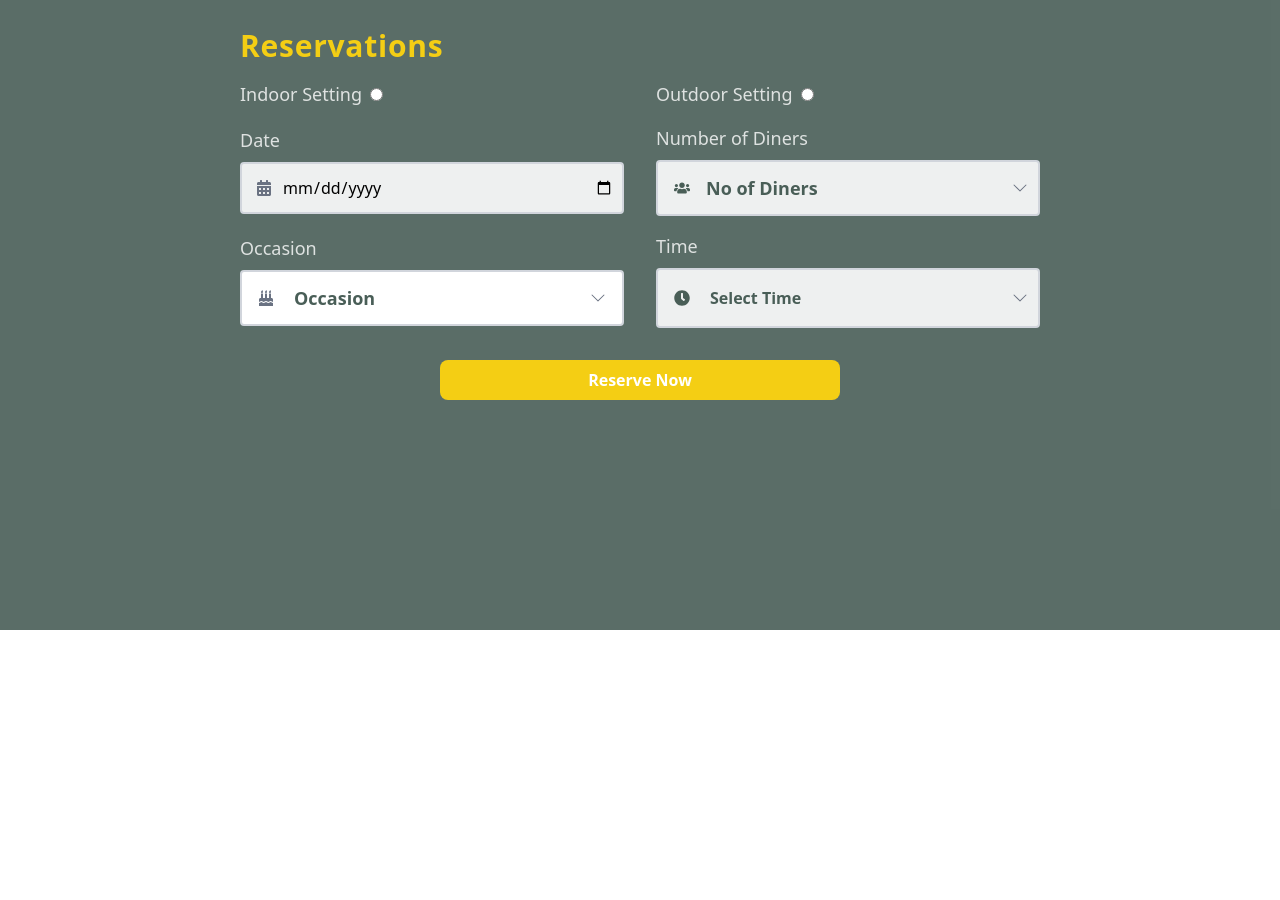
Test: BookingForm › shows validation errors on empty submit
Click the button "Reserve Now": (640, 380) [440, 360, 840, 400]
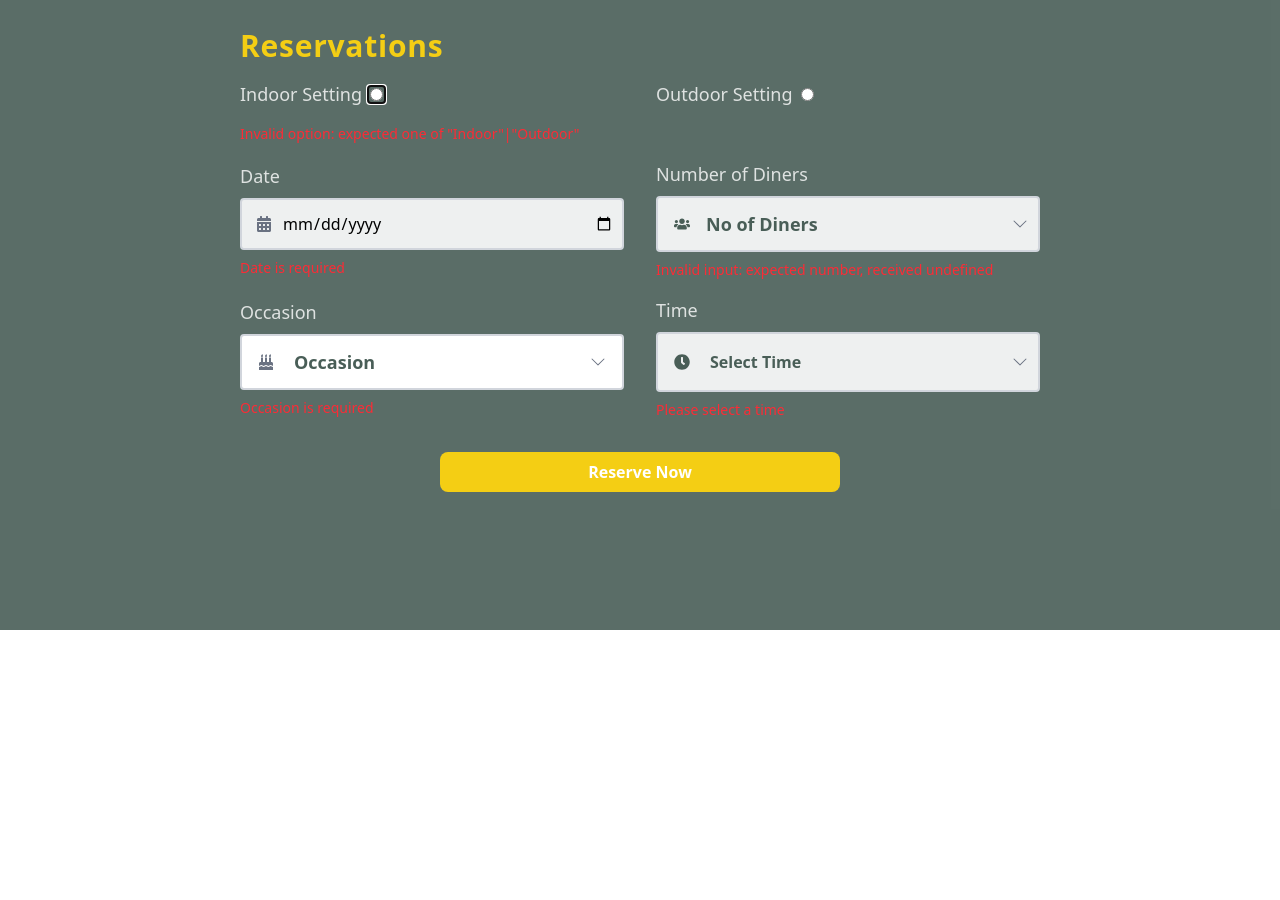
Result: the text "Date is required" is shown at [240, 258, 345, 277]
Result: the text "Please select a time" is shown at [656, 400, 785, 419]
Result: the text "Occasion is required" is shown at [240, 398, 374, 417]
